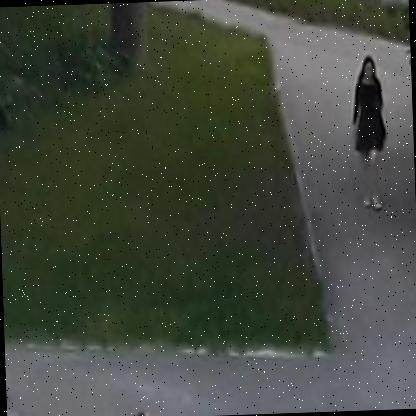person: (344, 49, 392, 214)
